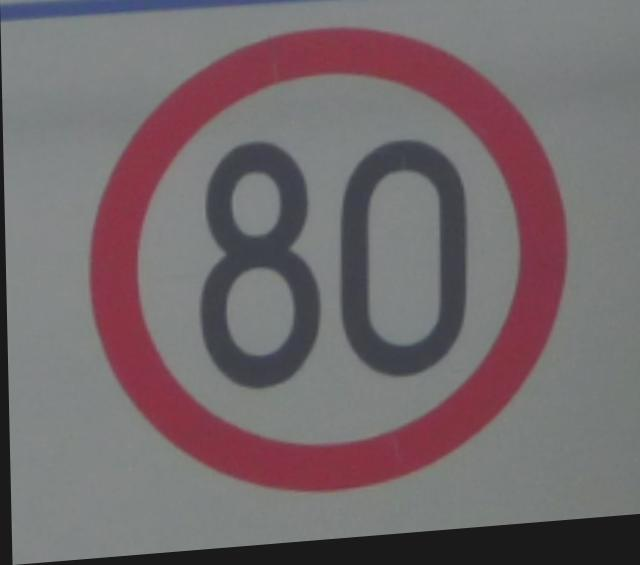limit80: (67, 9, 583, 522)
